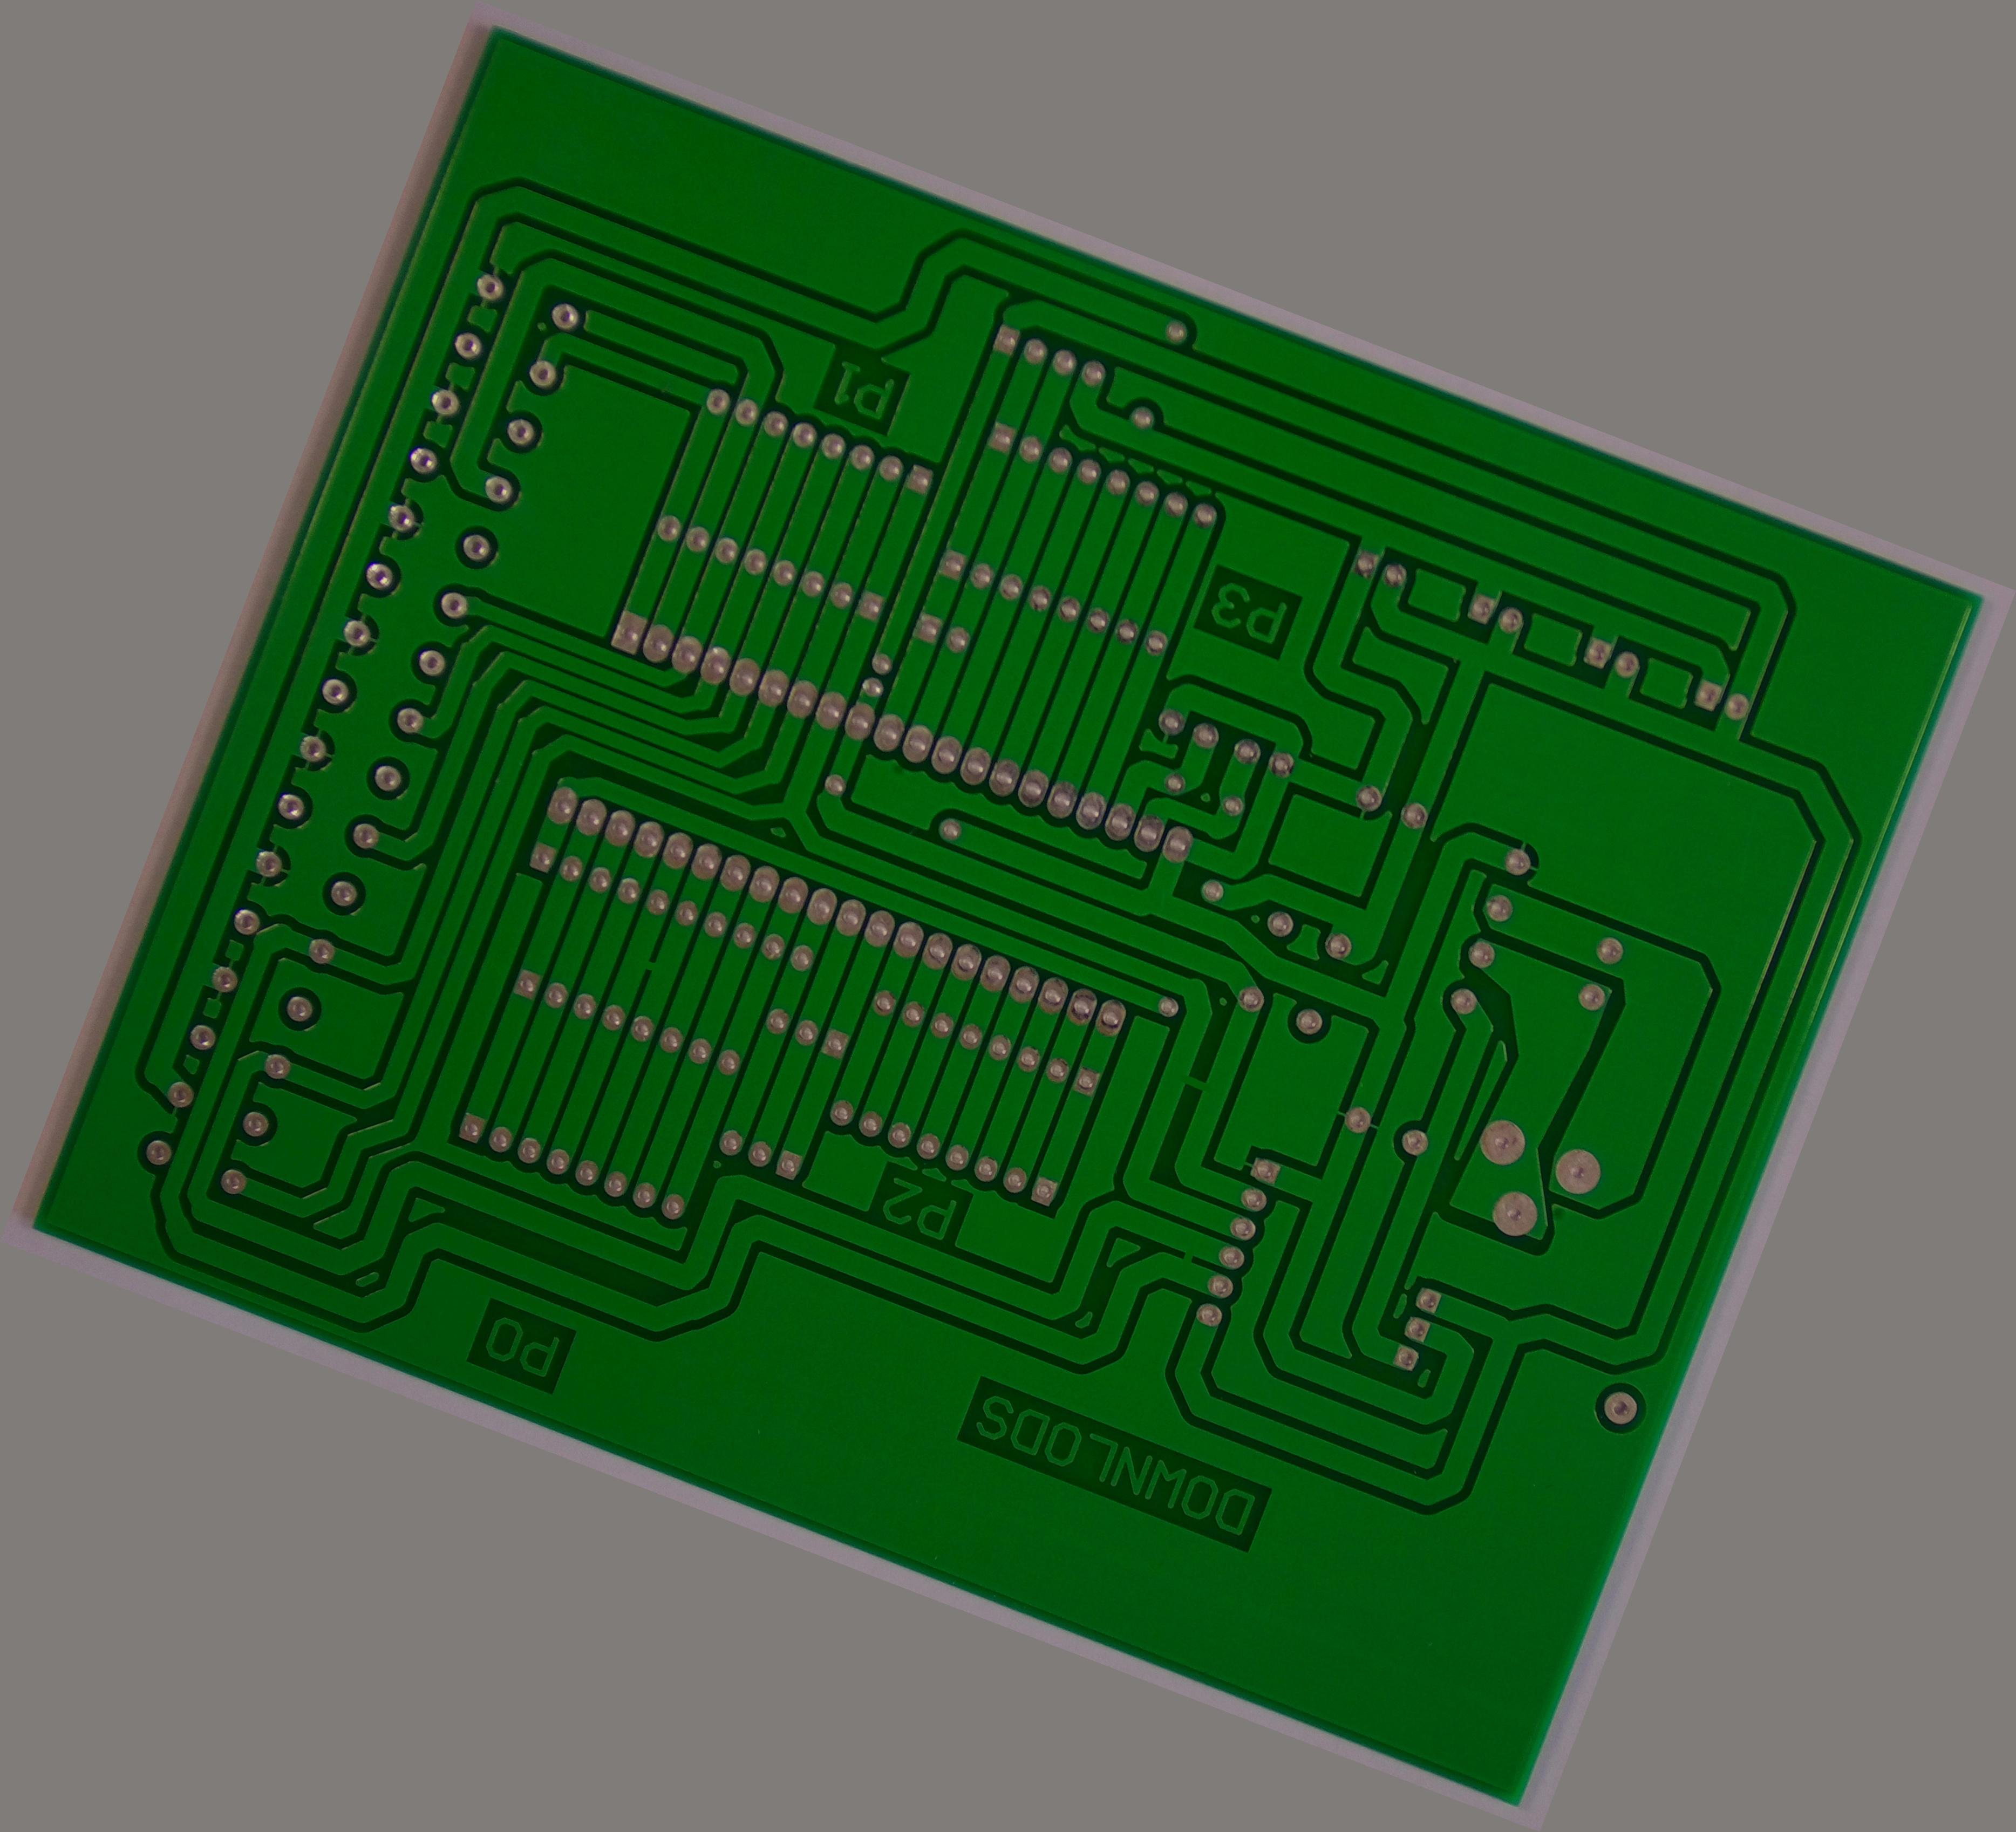short: (1152, 1043, 1243, 1128), (1150, 1215, 1229, 1300), (615, 933, 683, 1003)
